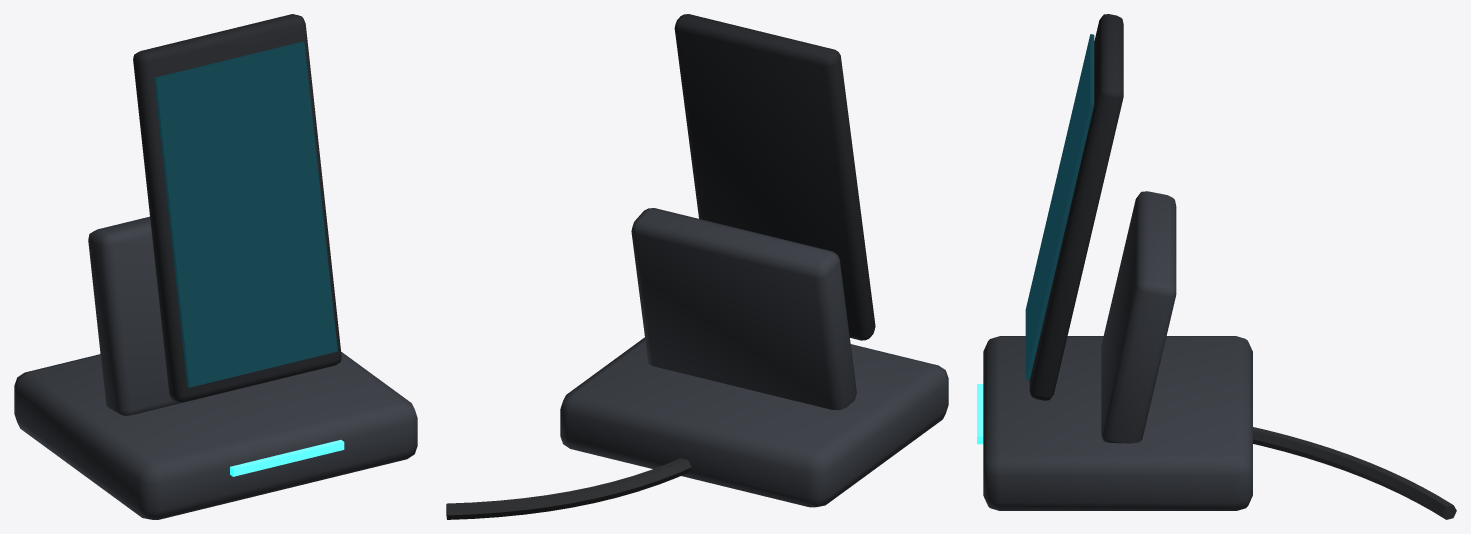
The model's file is phone_dock.glb.
3 views of the same model, side by side, from view 1: azimuth 30°, elevation 25°; view 2: azimuth 150°, elevation 25°; view 3: azimuth 270°, elevation 25° (orthographic). The views are drawn at different scales.
Visible parts, largest first — view 1: Body, Screen; view 2: Body; view 3: Body, Screen.
Boxes of the visible parts, box(x1,y1,x2,y2) form: Body: box(14, 14, 417, 519); Screen: box(154, 41, 337, 387); Body: box(446, 14, 948, 519); Body: box(977, 14, 1456, 519); Screen: box(1025, 34, 1094, 380).
Size of the model in its own units: 0.1572 by 0.2136 by 0.2313.
